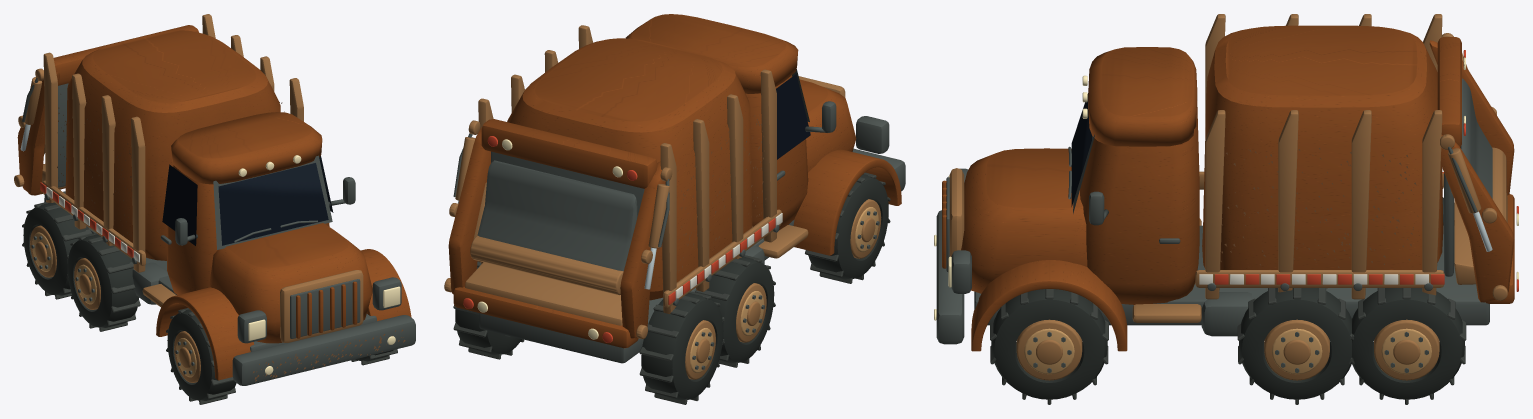
File: stinky.glb
3 views of the same model, side by side, from view 1: azimuth 30°, elevation 25°; view 2: azimuth 150°, elevation 25°; view 3: azimuth 270°, elevation 25° (orthographic). The views are drawn at different scales.
Parts seen in each view (by area): view 1: Cabin_Worn_surface, Enclosed rounded refuse body, Cabin_Dark_surface, GarbageCompartment_Ochre_surface, Cabin_Single_surface, Chunky tire.001, RearHopperPivot_Worn_surface, Chunky tire.002, Chunky tire, Cabin_Ochre_surface, Chassis_Dark_surface, RearHopperPivot_Dark_surface (+15 smaller); view 2: Enclosed rounded refuse body, Cabin_Worn_surface, RearHopperPivot_Worn_surface, Curved compactor blade, GarbageCompartment_Ochre_surface, RearHopperPivot_Ochre_surface, Chunky tire.002, CompactorPivot_Ochre_surface, Chunky tire.001, Chunky tire, Chassis_Dark_surface, Cabin_Dark_surface (+18 smaller); view 3: Enclosed rounded refuse body, Cabin_Worn_surface, GarbageCompartment_Ochre_surface, RearHopperPivot_Worn_surface, Chunky tire.005, Chunky tire.003, Chunky tire.004, Chassis_Dark_surface, Cabin_Dark_surface, Cabin_Ochre_surface, Wheel_R1_Ochre_surface, Wheel_R2_Ochre_surface (+16 smaller).
Boxes of the visible parts, left/top/right/bottom form: Cabin_Worn_surface: left=156, top=112, right=411, bottom=380; Enclosed rounded refuse body: left=65, top=30, right=280, bottom=260; Cabin_Dark_surface: left=160, top=155, right=415, bottom=385; GarbageCompartment_Ochre_surface: left=43, top=14, right=303, bottom=272; Cabin_Single_surface: left=162, top=156, right=333, bottom=245; Chunky tire.001: left=67, top=234, right=139, bottom=327; RearHopperPivot_Worn_surface: left=17, top=25, right=198, bottom=195; Chunky tire.002: left=23, top=202, right=88, bottom=295; Chunky tire: left=167, top=309, right=236, bottom=400; Cabin_Ochre_surface: left=142, top=270, right=363, bottom=342; Chassis_Dark_surface: left=44, top=191, right=376, bottom=351; RearHopperPivot_Dark_surface: left=22, top=77, right=68, bottom=187; Enclosed rounded refuse body: left=507, top=38, right=752, bottom=300; Cabin_Worn_surface: left=625, top=14, right=901, bottom=255; RearHopperPivot_Worn_surface: left=448, top=119, right=665, bottom=348; Curved compactor blade: left=477, top=160, right=637, bottom=271; GarbageCompartment_Ochre_surface: left=478, top=25, right=781, bottom=313; RearHopperPivot_Ochre_surface: left=444, top=120, right=672, bottom=339; Chunky tire.002: left=641, top=293, right=723, bottom=400; CompactorPivot_Ochre_surface: left=470, top=182, right=623, bottom=295; Chunky tire.001: left=706, top=256, right=774, bottom=363; Chunky tire: left=808, top=174, right=888, bottom=279; Chassis_Dark_surface: left=479, top=220, right=794, bottom=363; Cabin_Dark_surface: left=777, top=69, right=905, bottom=191; Enclosed rounded refuse body: left=1202, top=25, right=1443, bottom=288; Cabin_Worn_surface: left=942, top=47, right=1199, bottom=351; GarbageCompartment_Ochre_surface: left=1195, top=14, right=1444, bottom=299; RearHopperPivot_Worn_surface: left=1429, top=37, right=1514, bottom=303; Chunky tire.005: left=1352, top=288, right=1464, bottom=399; Chunky tire.003: left=991, top=289, right=1107, bottom=399; Chunky tire.004: left=1239, top=288, right=1351, bottom=399; Chassis_Dark_surface: left=974, top=225, right=1489, bottom=336; Cabin_Dark_surface: left=936, top=134, right=1180, bottom=344; Cabin_Ochre_surface: left=949, top=168, right=1201, bottom=322; Wheel_R1_Ochre_surface: left=1264, top=319, right=1329, bottom=380; Wheel_R2_Ochre_surface: left=1374, top=319, right=1439, bottom=380.
Size of the model in its own units: 3.54 by 3.9 by 7.2.
12 materials, 2 textured.
